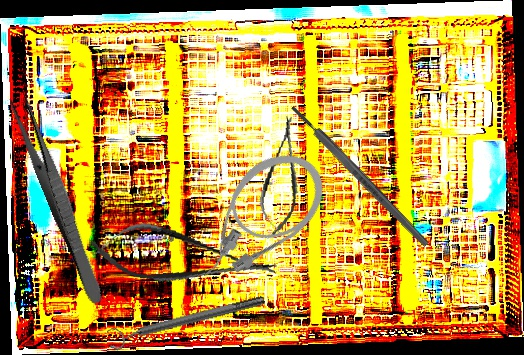Cannula: (173, 136, 341, 295)
Dressing Forceps: (6, 91, 110, 307)
Fixation Ring: (105, 288, 268, 353)
Micro Scissor: (86, 214, 281, 301), (254, 113, 310, 239)
Scalpel Handle: (288, 103, 431, 249)
